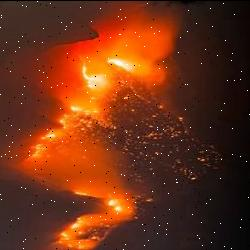fire: (19, 16, 184, 158), (33, 159, 142, 248)
